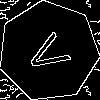V: (23, 26, 80, 78)
